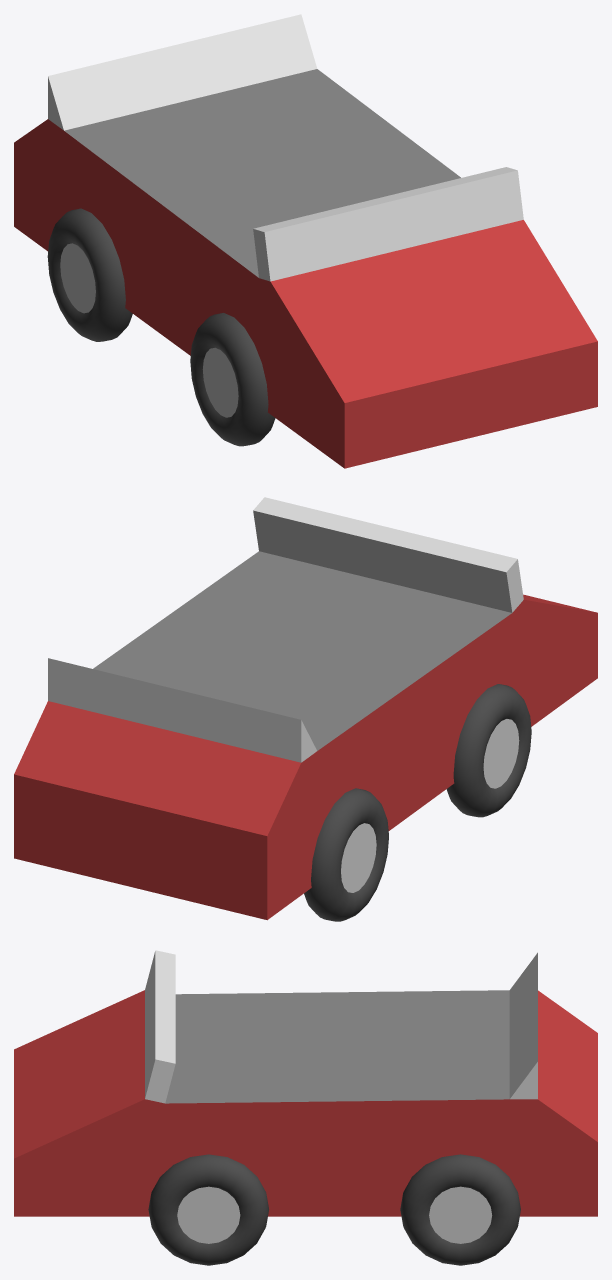
File: car_body.fbx
3 views of the same model, one above another, from view 1: azimuth 30°, elevation 25°; view 2: azimuth 150°, elevation 25°; view 3: azimuth 270°, elevation 25° (orthographic). The views are drawn at different scales.
Parts seen in each view (by area): view 1: pCube4; view 2: pCube4; view 3: pCube4.
Boxes of the visible parts, box(x1,y1,x2,y2) form: pCube4: box(14, 14, 597, 468); pCube4: box(14, 497, 597, 921); pCube4: box(14, 950, 597, 1265).
Bounding box in the file's own units: 4.57 × 3.49 × 9.04.
